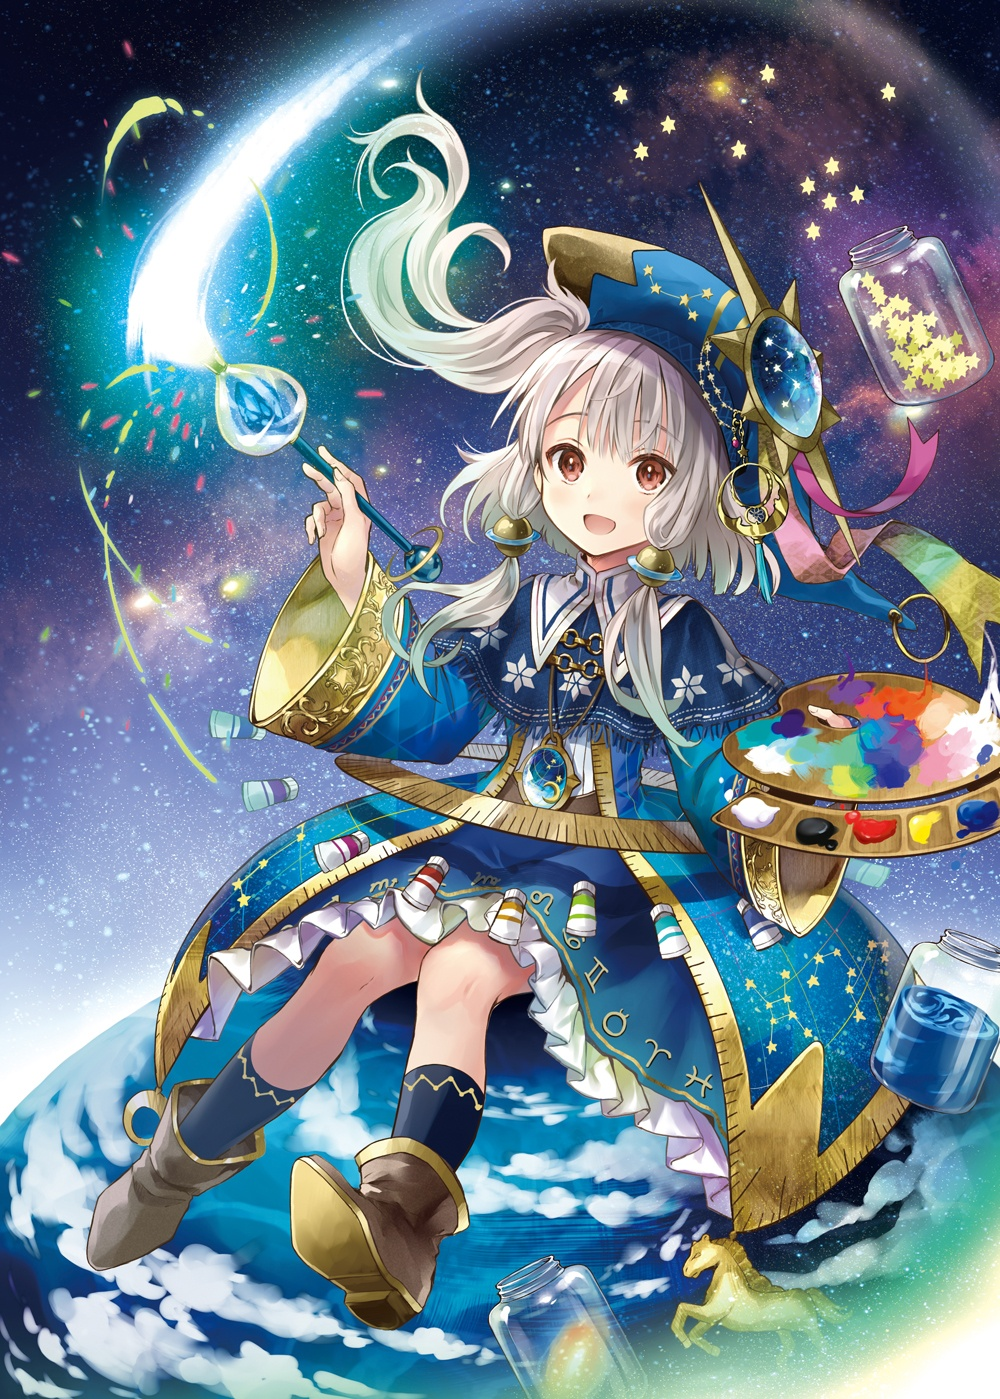纸片人正脸: (491, 317, 738, 567)
